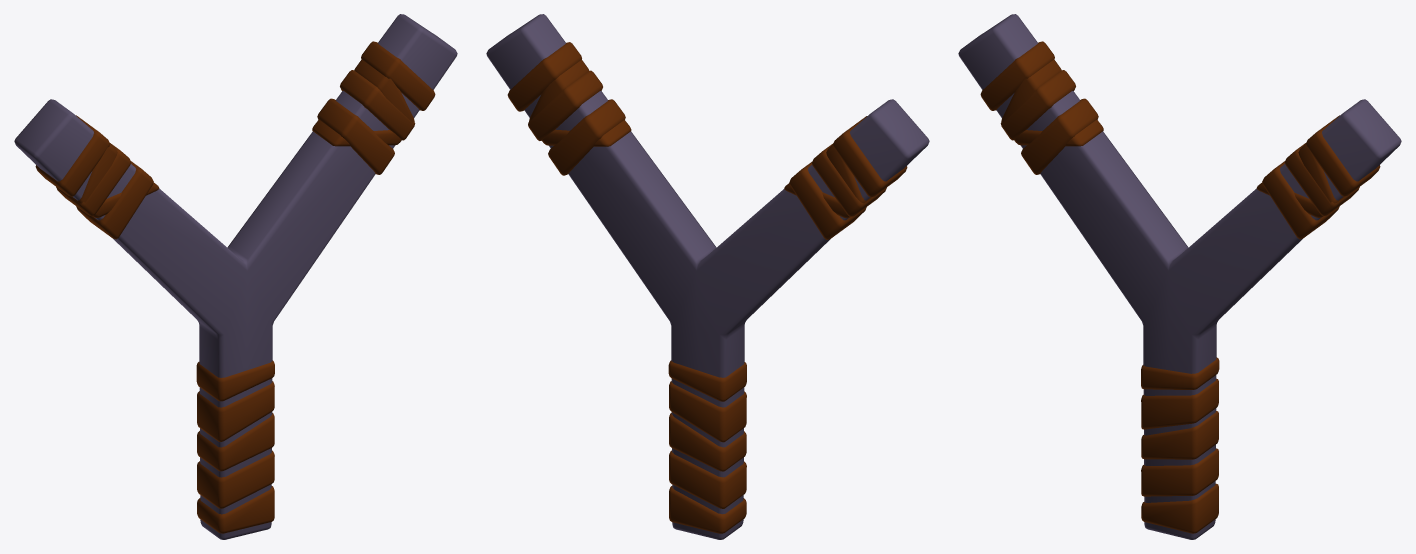
Rendered from SlingShot.fbx.
3 renders of one model, left to right at view 1: azimuth 30°, elevation 25°; view 2: azimuth 150°, elevation 25°; view 3: azimuth 330°, elevation 25°, orthographic.
Parts seen in each view (by area): view 1: SlingShot; view 2: SlingShot; view 3: SlingShot.
Part boxes in pixels (bbox=[...]): SlingShot: bbox=[14, 14, 457, 539]; SlingShot: bbox=[486, 14, 929, 539]; SlingShot: bbox=[958, 14, 1401, 539].
Bounding box in the file's own units: 20.28 × 21.23 × 2.3.
